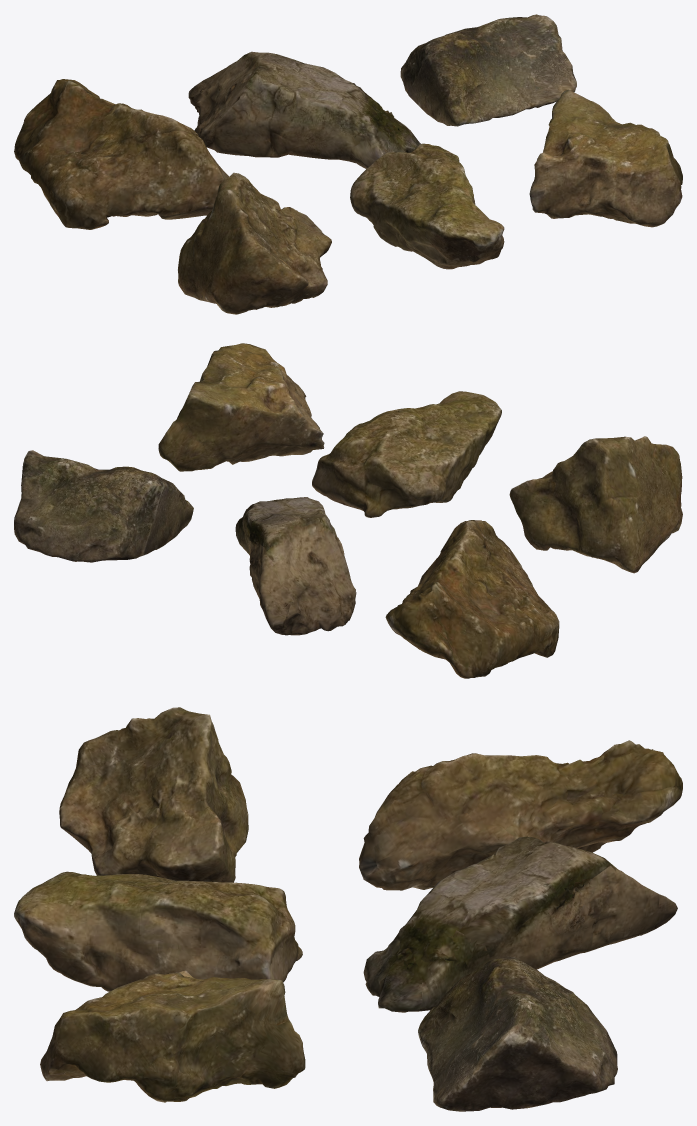
File: rock_moss_set_01.glb
3 views of the same model, one above another, from view 1: azimuth 30°, elevation 25°; view 2: azimuth 150°, elevation 25°; view 3: azimuth 270°, elevation 25° (orthographic). The views are drawn at different scales.
Parts seen in each view (by area): view 1: rock_moss_set_01_rock01, rock_moss_set_01_rock02, rock_moss_set_01_rock06, rock_moss_set_01_rock04, rock_moss_set_01_rock03, rock_moss_set_01_rock05; view 2: rock_moss_set_01_rock04, rock_moss_set_01_rock01, rock_moss_set_01_rock05, rock_moss_set_01_rock03, rock_moss_set_01_rock06, rock_moss_set_01_rock02; view 3: rock_moss_set_01_rock01, rock_moss_set_01_rock02, rock_moss_set_01_rock05, rock_moss_set_01_rock04, rock_moss_set_01_rock06, rock_moss_set_01_rock03.
Boxes of the visible parts, left/top/right/bottom form: rock_moss_set_01_rock01: left=14, top=79, right=229, bottom=229; rock_moss_set_01_rock02: left=188, top=51, right=420, bottom=168; rock_moss_set_01_rock06: left=529, top=89, right=682, bottom=227; rock_moss_set_01_rock04: left=178, top=172, right=331, bottom=314; rock_moss_set_01_rock03: left=400, top=14, right=576, bottom=126; rock_moss_set_01_rock05: left=350, top=143, right=504, bottom=269; rock_moss_set_01_rock04: left=509, top=436, right=682, bottom=573; rock_moss_set_01_rock01: left=385, top=520, right=559, bottom=678; rock_moss_set_01_rock05: left=312, top=391, right=501, bottom=517; rock_moss_set_01_rock03: left=14, top=450, right=193, bottom=562; rock_moss_set_01_rock06: left=158, top=343, right=324, bottom=471; rock_moss_set_01_rock02: left=235, top=497, right=356, bottom=635; rock_moss_set_01_rock01: left=359, top=740, right=682, bottom=890; rock_moss_set_01_rock02: left=363, top=836, right=677, bottom=1012; rock_moss_set_01_rock05: left=14, top=871, right=302, bottom=991; rock_moss_set_01_rock04: left=59, top=707, right=248, bottom=882; rock_moss_set_01_rock06: left=40, top=970, right=305, bottom=1102; rock_moss_set_01_rock03: left=418, top=956, right=617, bottom=1111.
Size of the model in its own units: 8 by 1.77 by 6.94.
1 material, 1 textured.
